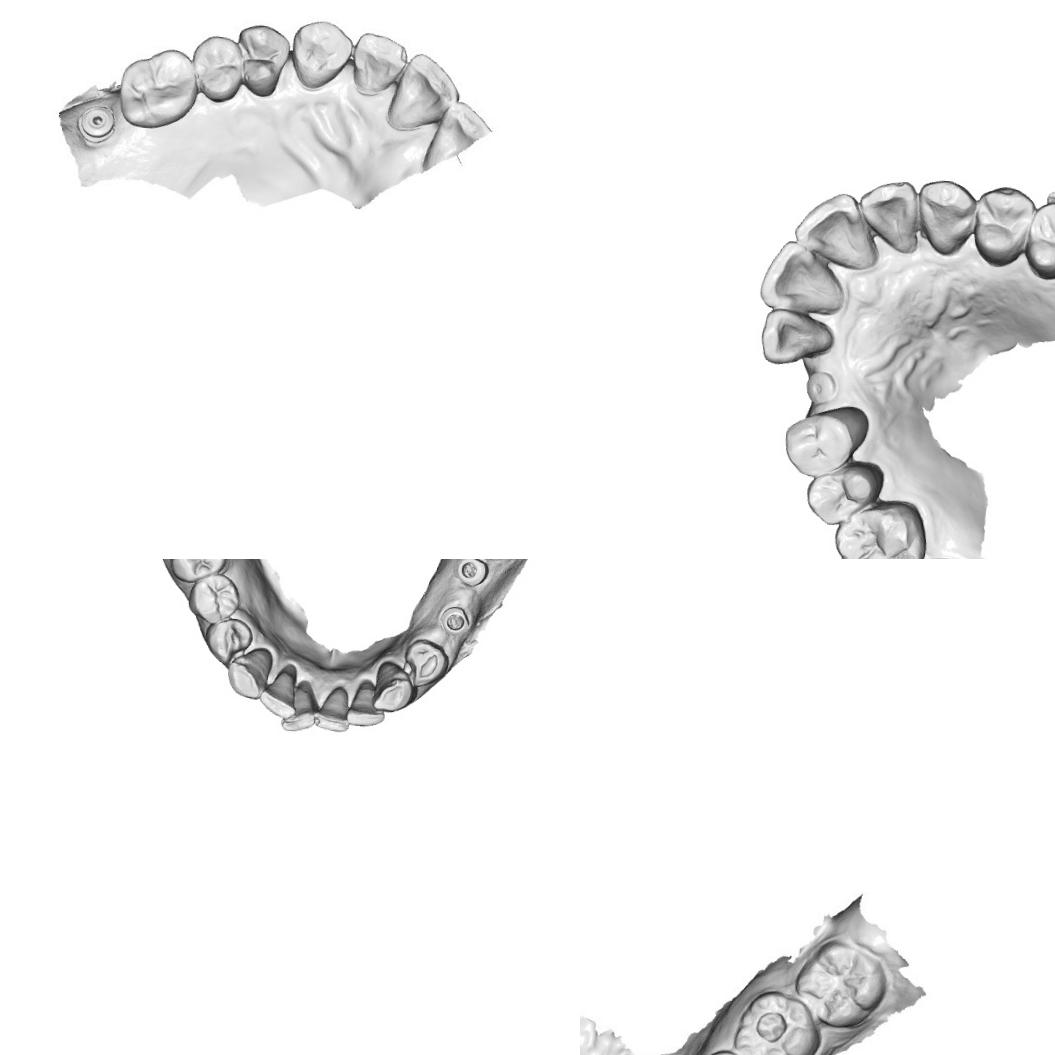canine: (915, 176, 977, 257), (288, 16, 352, 92), (224, 643, 274, 702), (368, 658, 416, 716)
implant: (73, 96, 119, 149), (802, 368, 837, 406), (435, 603, 473, 638), (451, 559, 491, 589)
incisor: (790, 188, 882, 272), (758, 238, 852, 314), (382, 48, 465, 134), (855, 177, 922, 254), (758, 307, 837, 368), (346, 28, 407, 101), (308, 681, 356, 734), (256, 666, 299, 720), (280, 681, 322, 735), (344, 678, 386, 730)
molar: (118, 42, 201, 133), (796, 939, 882, 1022), (829, 497, 924, 559), (737, 992, 815, 1055), (157, 559, 231, 585)
premolar: (778, 400, 871, 482), (969, 183, 1036, 268), (801, 461, 879, 531), (230, 21, 288, 98), (188, 31, 247, 105), (185, 570, 243, 628), (1020, 197, 1055, 281), (201, 615, 255, 666), (402, 636, 453, 690)
